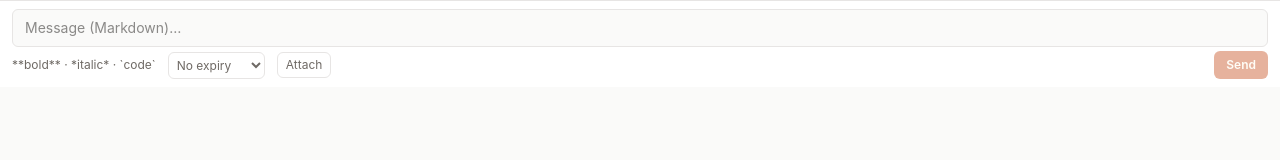
Scenario: ChatInput slash popup (issue #99 Phase 3) › Enter on an argument candidate fills "/nick " with the caret at the end
This screenshot has width=1280, height=160.
In the dropdown named "Write a message": (640, 28) x1=12 y1=9 x2=1268 y2=47, type "/ni"
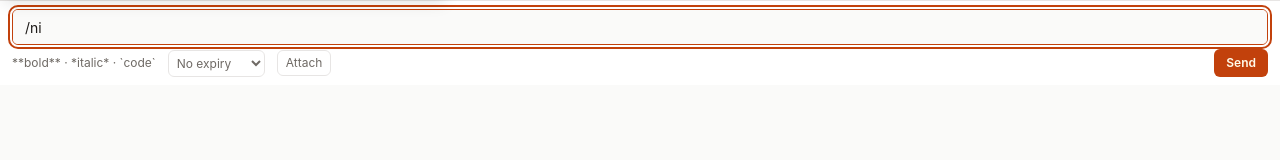
Press Enter in the dropdown named "Write a message", box x1=12 y1=9 x2=1268 y2=45
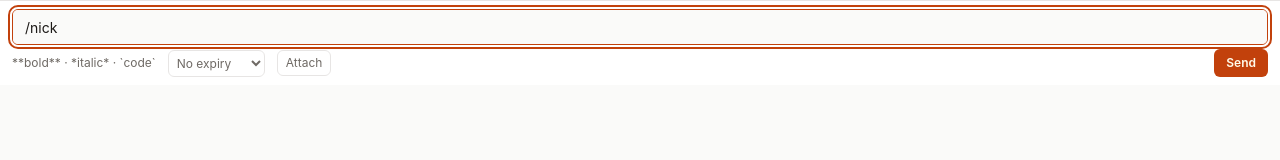
Now the dropdown named "Write a message" holds "/nick ", box x1=12 y1=9 x2=1268 y2=45
